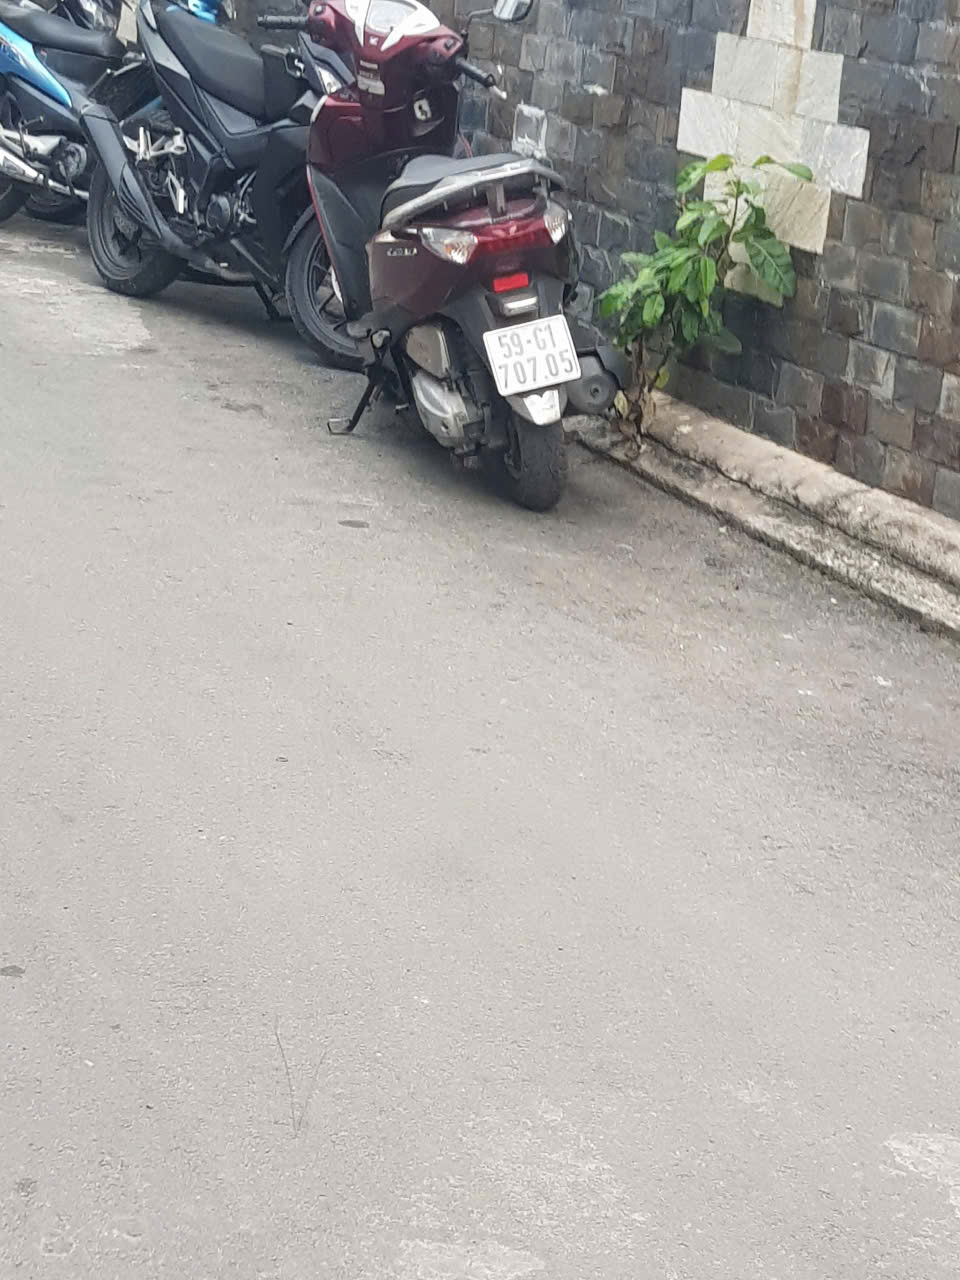bien_so: (484, 314, 579, 396)
